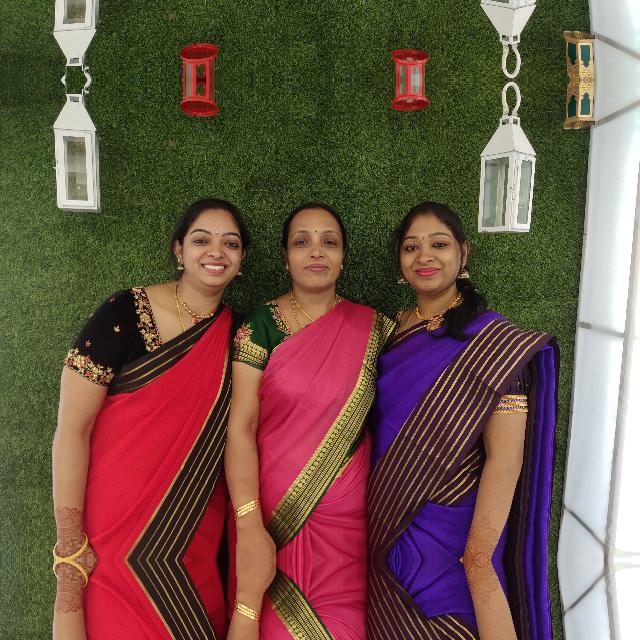person: (271, 182, 361, 324), (152, 189, 252, 315), (384, 187, 484, 307)
